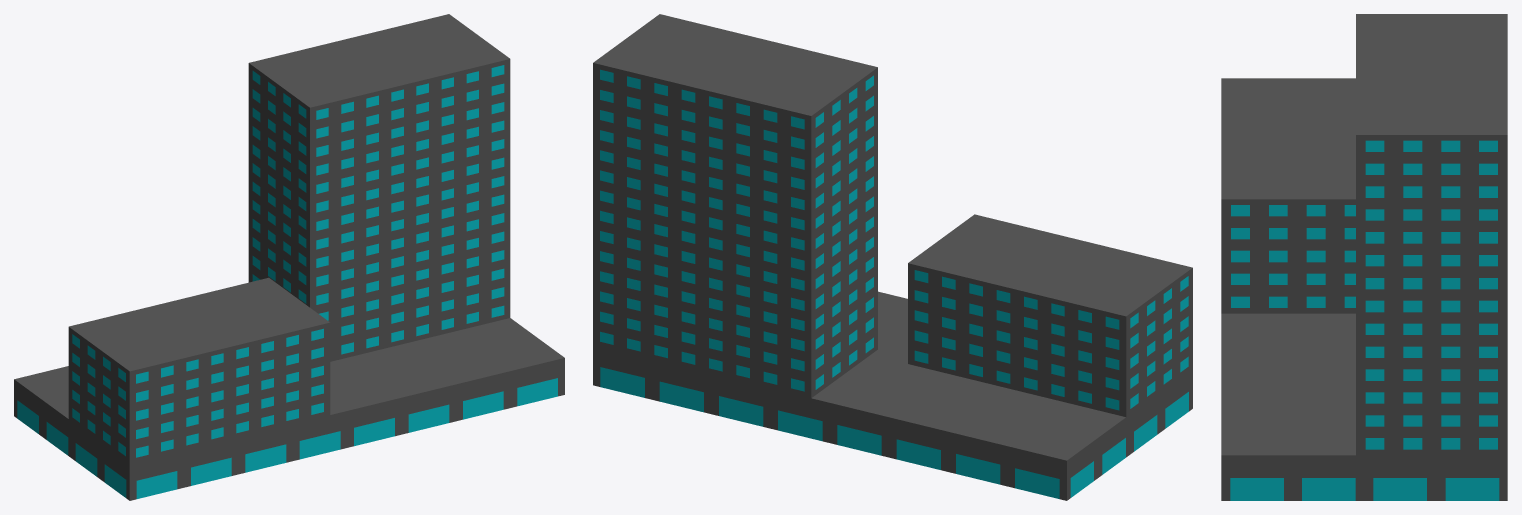
File: Building1.obj
3 renders of one model, left to right at view 1: azimuth 30°, elevation 25°; view 2: azimuth 150°, elevation 25°; view 3: azimuth 270°, elevation 25°, orthographic. The views are drawn at different scales.
Visible parts, largest first — view 1: Cube; view 2: Cube; view 3: Cube.
Part boxes in pixels (x1,y1,x2,y2): Cube: [14, 14, 564, 500]; Cube: [593, 14, 1192, 500]; Cube: [1221, 14, 1507, 500].
Size of the model in its own units: 73.8 by 48 by 34.
